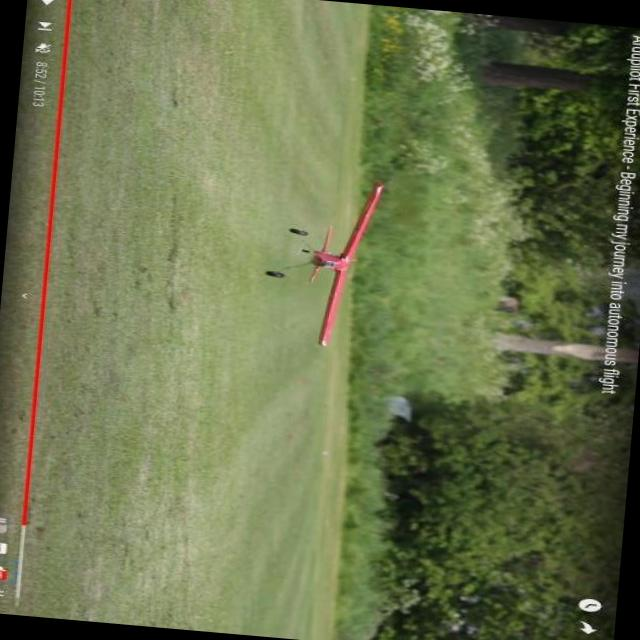UAV: (265, 170, 409, 378)
